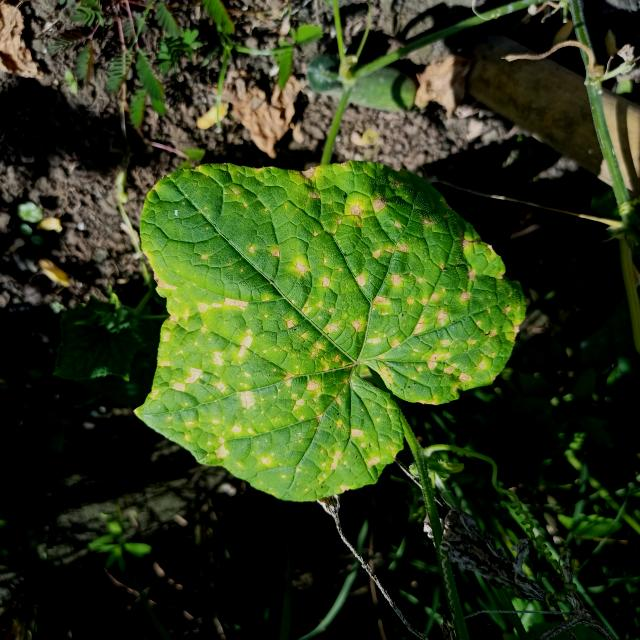disease_cucumber: (136, 170, 520, 492)
